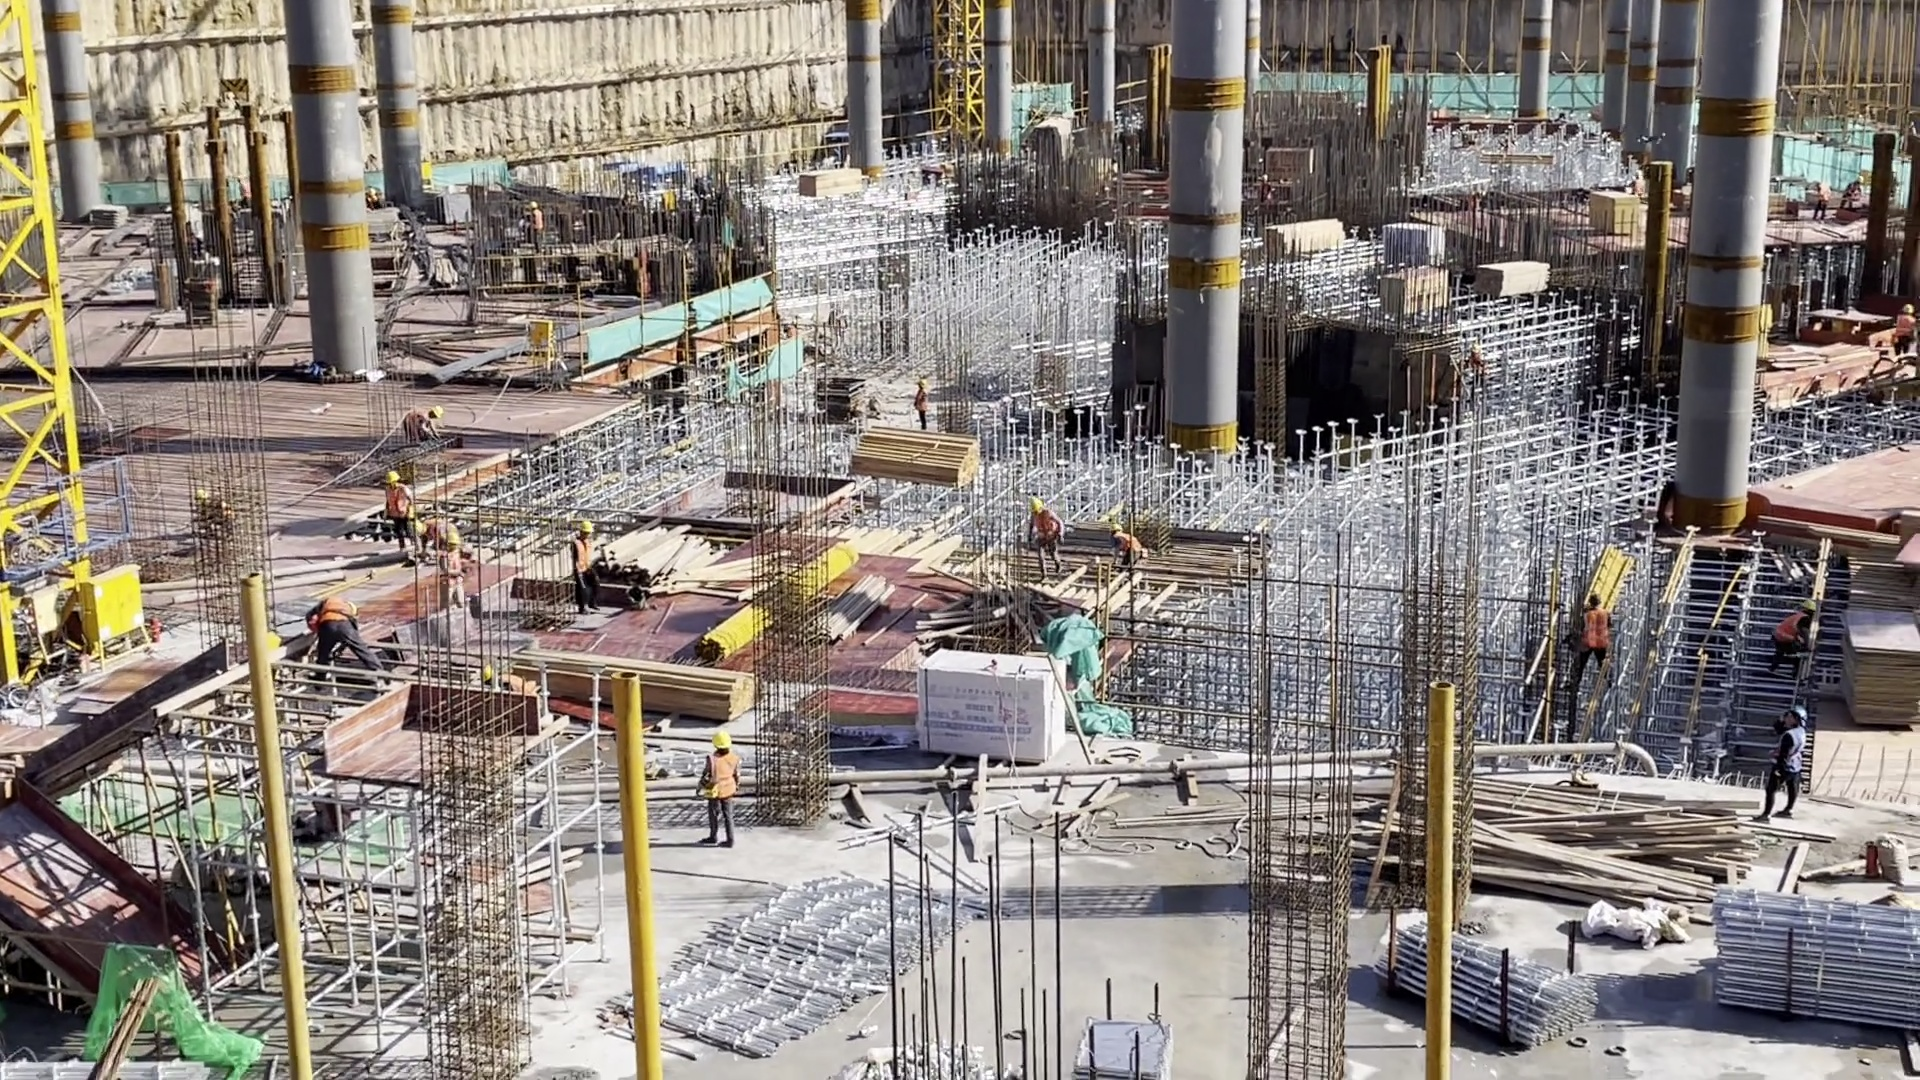board: (1371, 263, 1452, 318), (1589, 189, 1639, 238)
cutter: (1799, 300, 1892, 346)
ebox: (85, 558, 155, 658), (25, 583, 56, 661), (528, 316, 555, 368)
helmet: (711, 728, 731, 752), (1787, 706, 1806, 724), (1586, 590, 1603, 606), (383, 470, 402, 484), (444, 532, 462, 547), (1801, 598, 1816, 613), (1028, 497, 1043, 512), (577, 520, 594, 533), (1110, 523, 1123, 534), (1900, 304, 1913, 315), (431, 406, 443, 417), (917, 378, 927, 389)
person: (1766, 706, 1806, 834), (1571, 588, 1608, 718), (303, 587, 356, 669), (705, 726, 740, 848), (1767, 600, 1828, 664), (375, 467, 411, 571), (566, 519, 602, 614), (1028, 494, 1061, 578), (434, 533, 464, 612), (402, 407, 441, 452), (1110, 522, 1144, 570), (525, 199, 548, 259), (414, 512, 447, 553), (1896, 301, 1915, 363), (911, 376, 930, 431), (1837, 176, 1863, 208), (1813, 178, 1830, 223)
scaffold: (631, 865, 963, 1080), (1691, 888, 1920, 1034), (1385, 915, 1599, 1065), (1058, 1007, 1178, 1080)
vest: (708, 753, 744, 806), (1779, 727, 1805, 779), (1577, 609, 1609, 652), (1773, 612, 1808, 649), (309, 597, 354, 625), (384, 483, 411, 522), (1034, 510, 1056, 545), (441, 551, 462, 584), (571, 539, 590, 574), (1115, 533, 1141, 554), (1895, 313, 1915, 339), (913, 389, 929, 414)
wood: (1443, 782, 1764, 894), (599, 524, 826, 605), (487, 657, 766, 722), (846, 429, 991, 488), (1267, 216, 1350, 265), (1479, 257, 1551, 302), (793, 163, 866, 202)
